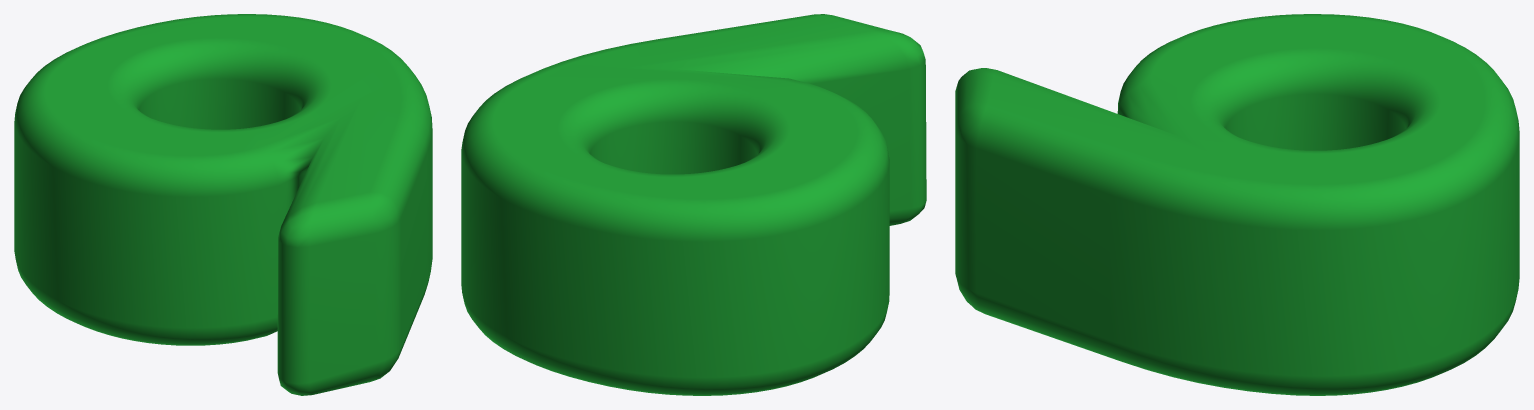
The model's file is Nine.fbx.
3 views of the same model, side by side, from view 1: azimuth 30°, elevation 25°; view 2: azimuth 150°, elevation 25°; view 3: azimuth 270°, elevation 25° (orthographic). The views are drawn at different scales.
Visible parts, largest first — view 1: polySurface9; view 2: polySurface9; view 3: polySurface9.
Part boxes in pixels (x1,y1,x2,y2): polySurface9: (14, 14, 432, 395); polySurface9: (461, 14, 926, 395); polySurface9: (955, 14, 1519, 395).
Size of the model in its own units: 0.492 by 0.2429 by 0.5967.
1 material, 1 textured.
